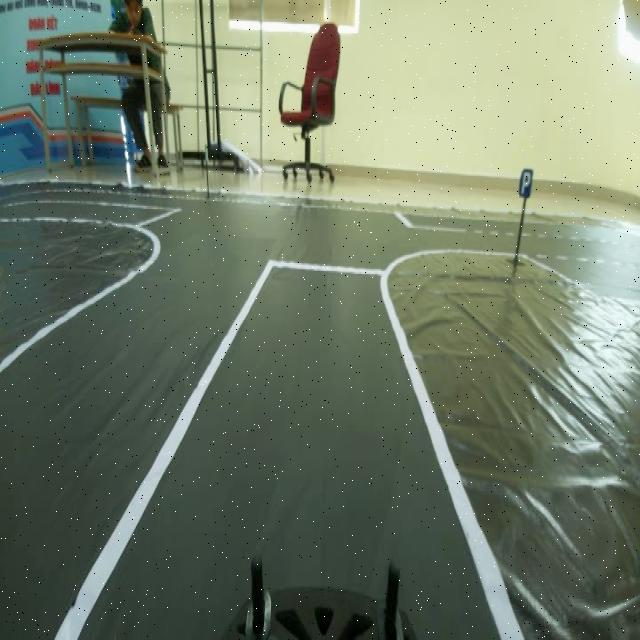parking: (519, 165, 536, 203)
